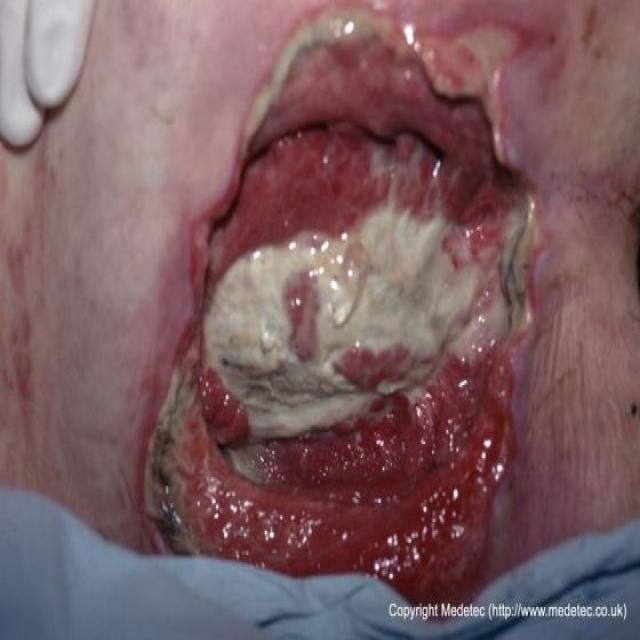stage-4: (146, 11, 535, 603)
